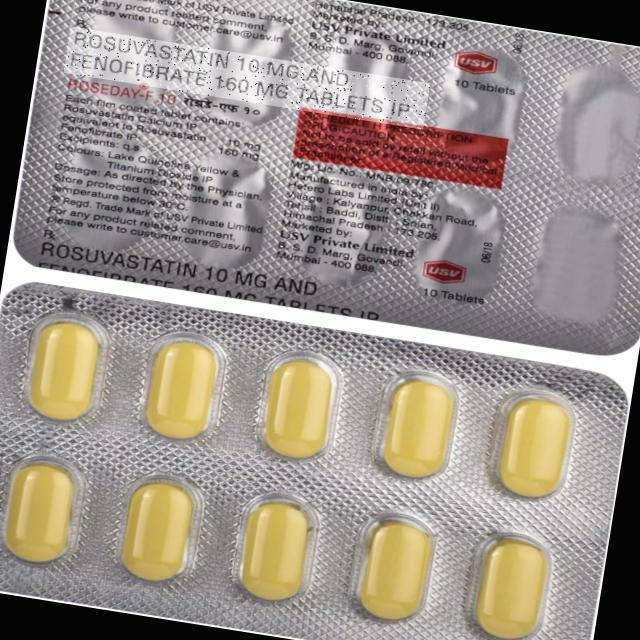Medicine-name: (65, 28, 432, 131)
